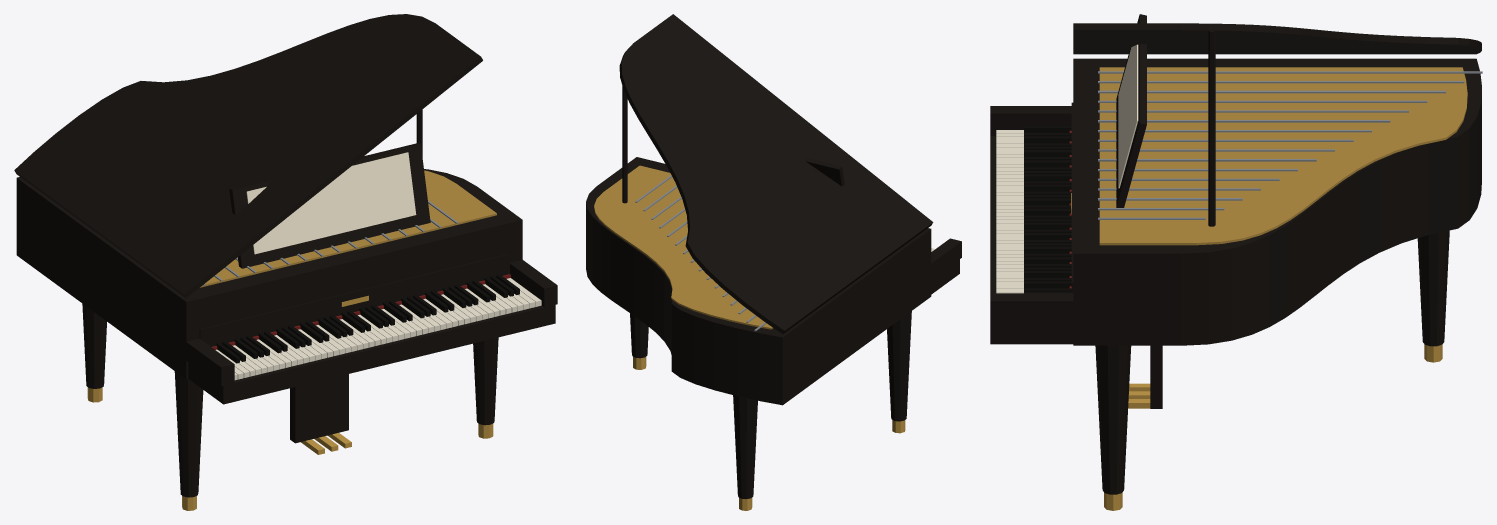
The model's file is piano-becker.glb.
The picture shows the model from 3 angles, left to right: view 1: azimuth 30°, elevation 25°; view 2: azimuth 150°, elevation 25°; view 3: azimuth 270°, elevation 25°; orthographic projection. The views are drawn at different scales.
Visible parts, largest first — view 1: Лак, Ноты, Клавиши, Чёрные клавиши, Чугунная рама, Латунь; view 2: Лак, Чугунная рама, Струны, Латунь; view 3: Лак, Чугунная рама, Струны, Чёрные клавиши, Клавиши, Ноты, Латунь.
Boxes of the visible parts, bbox=[...] form: Лак: bbox=[14, 14, 557, 497]; Ноты: bbox=[246, 152, 416, 254]; Клавиши: bbox=[215, 278, 541, 380]; Чёрные клавиши: bbox=[216, 274, 519, 363]; Чугунная рама: bbox=[200, 170, 496, 287]; Латунь: bbox=[87, 295, 493, 510]; Лак: bbox=[586, 14, 961, 499]; Чугунная рама: bbox=[594, 165, 772, 329]; Струны: bbox=[635, 175, 766, 331]; Латунь: bbox=[633, 356, 905, 510]; Лак: bbox=[990, 14, 1481, 494]; Чугунная рама: bbox=[1099, 67, 1467, 245]; Струны: bbox=[1098, 71, 1482, 219]; Чёрные клавиши: bbox=[1024, 126, 1071, 293]; Клавиши: bbox=[996, 130, 1023, 293]; Ноты: bbox=[1118, 44, 1138, 188]; Латунь: bbox=[1071, 193, 1442, 510].
Bounding box in the file's own units: 1.51 × 1.69 × 1.6.
